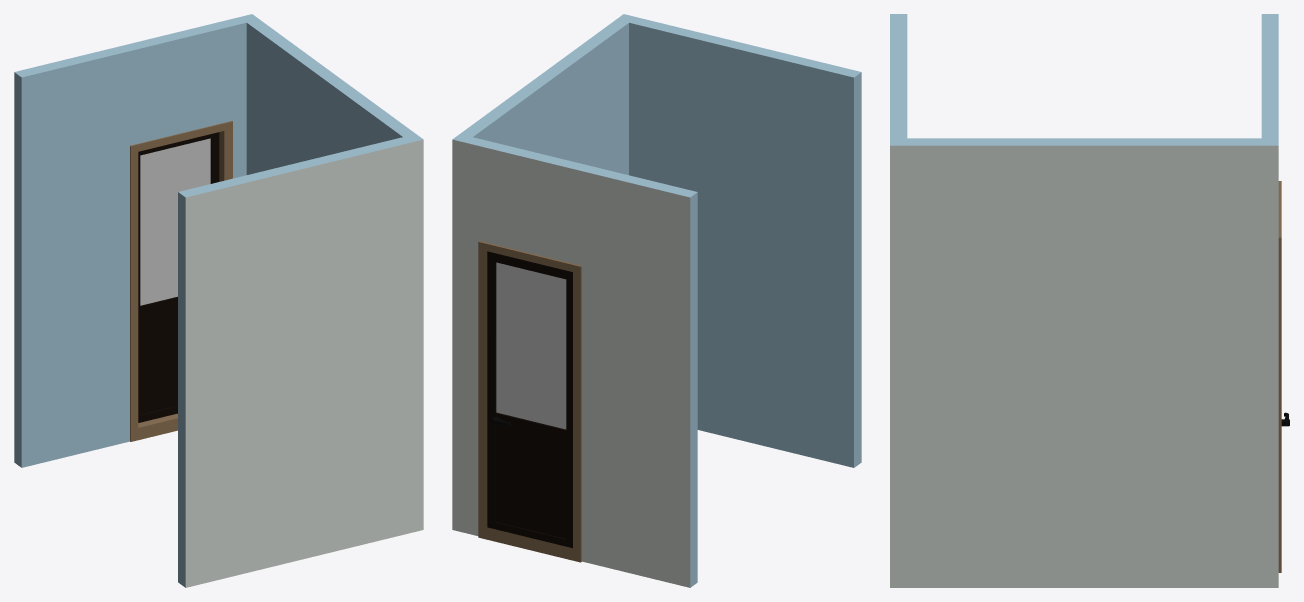
The model's file is inner_wall_type4_toilet.FBX.
The picture shows the model from 3 angles, left to right: view 1: azimuth 30°, elevation 25°; view 2: azimuth 150°, elevation 25°; view 3: azimuth 270°, elevation 25°; orthographic projection. The views are drawn at different scales.
Visible parts, largest first — view 1: inner_wall_type4_toilet_005, Inner_door_type3_toilet_003; view 2: inner_wall_type4_toilet_005, Inner_door_type3_toilet_003; view 3: inner_wall_type4_toilet_005.
Boxes of the visible parts, x1=… form: inner_wall_type4_toilet_005: x1=14, y1=14, x2=423, y2=587; Inner_door_type3_toilet_003: x1=138, y1=132, x2=219, y2=422; inner_wall_type4_toilet_005: x1=452, y1=14, x2=861, y2=587; Inner_door_type3_toilet_003: x1=487, y1=251, x2=572, y2=548; inner_wall_type4_toilet_005: x1=890, y1=14, x2=1281, y2=587.
Size of the model in its own units: 429 by 673 by 551.
Materials: 4 (1 with a texture image).
